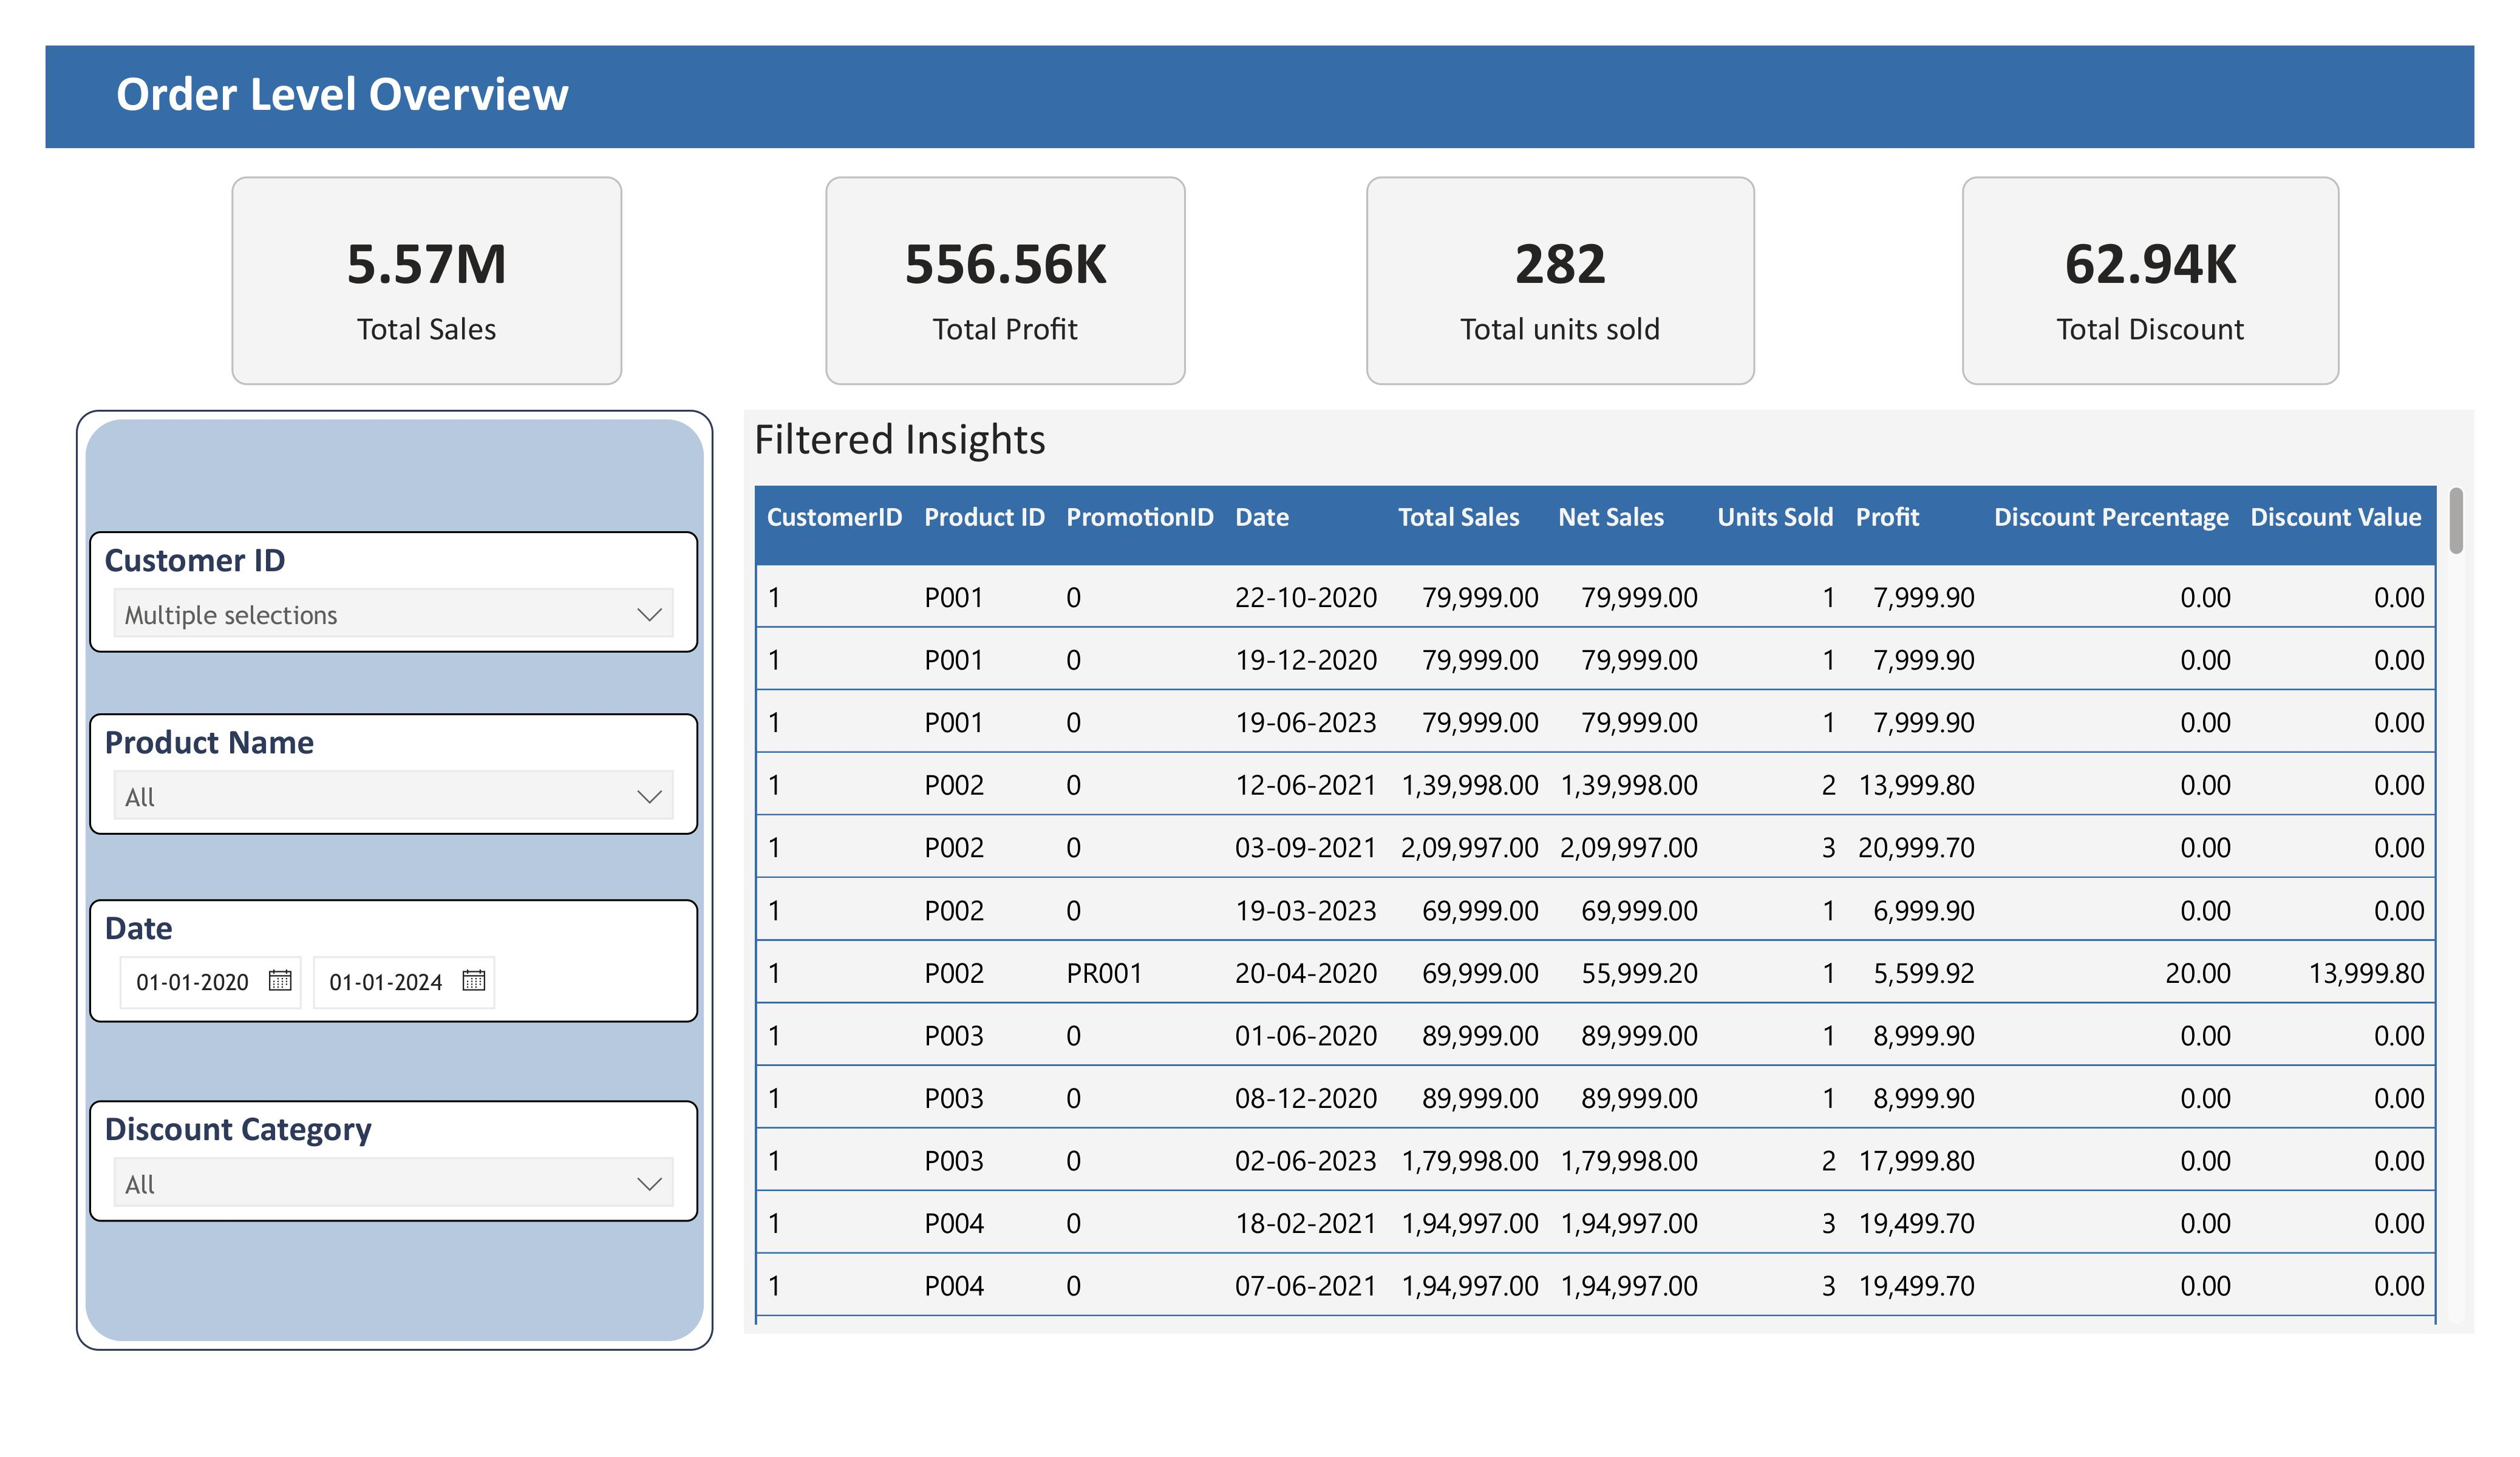

This screenshot's page, from the dashboard's own definition file:
{"tool":"powerbi","page":{"name":"Order Level Overview","canvas":[1280,720],"ordinal":2},"visuals":[{"type":"shape","box":[0,0,1280.3,53.8],"z":0},{"type":"shape","box":[31.8,74.6,1231.4,75.8],"z":1000},{"type":"textbox","box":[31.8,0,463.5,53.8],"z":2000},{"type":"shape","box":[16,192,336,496],"z":3000},{"type":"slicer","title":"Customer ID","fields":{"Values":["Sale Details.CustomerID"]},"box":[23.2,255.6,320.4,64.8],"z":4000},{"type":"slicer","title":"Product  Name","fields":{"Values":["Sale Details.Product ID"]},"box":[23.2,352.2,320.4,63.6],"z":5000},{"type":"slicer","title":"Date","fields":{"Values":["Sale Details.Date (dd/mm/yyyy)"]},"box":[23.2,450,320.4,64.8],"z":6000},{"type":"slicer","title":"Discount Category","fields":{"Values":["Dim Promotion.Promotion Name"]},"box":[23.2,556.4,320.4,63.6],"z":7000},{"type":"tableEx","title":"Filtered Insights","fields":{"Values":["Sale Details.CustomerID","Sale Details.Product ID","Sale Details.PromotionID","Sale Details.Date (dd/mm/yyyy)","Sale Details.Total  Sales","Sale Details.Net Sales","Sale Details.Units Sold","Sale Details.Profit","Sale Details.Discount Percentage","Sale Details.Discount Value"]},"box":[368.1,192,912.2,486.7],"z":8000},{"type":"card","fields":{"Values":["Sum(Sale Details.Net Sales)"]},"box":[97.5,68.8,206.2,110],"z":9000},{"type":"card","fields":{"Values":["Sum(Sale Details.Profit)"]},"box":[411.2,68.8,190,110],"z":10000},{"type":"card","fields":{"Values":["Sum(Sale Details.Units Sold)"]},"box":[696.2,68.8,205,110],"z":11000},{"type":"card","fields":{"Values":["Sum(Sale Details.Discount Value)"]},"box":[1010,68.8,198.8,110],"z":12000}]}

Visuals, with their boxes on the page's 1280x720 design canvas (x1, y1, x2, y2). These are canvas units, not pixel positions in the 2520x1457 screenshot, which may show the page scaled, cropped or inside an application window:
shape: x1=0 y1=0 x2=1280 y2=54
shape: x1=32 y1=75 x2=1263 y2=150
textbox: x1=32 y1=0 x2=495 y2=54
shape: x1=16 y1=192 x2=352 y2=688
"Customer ID" slicer: x1=23 y1=256 x2=344 y2=320
"Product  Name" slicer: x1=23 y1=352 x2=344 y2=416
"Date" slicer: x1=23 y1=450 x2=344 y2=515
"Discount Category" slicer: x1=23 y1=556 x2=344 y2=620
"Filtered Insights" tableEx: x1=368 y1=192 x2=1280 y2=679
card - Sum(Sale Details.Net Sales): x1=98 y1=69 x2=304 y2=179
card - Sum(Sale Details.Profit): x1=411 y1=69 x2=601 y2=179
card - Sum(Sale Details.Units Sold): x1=696 y1=69 x2=901 y2=179
card - Sum(Sale Details.Discount Value): x1=1010 y1=69 x2=1209 y2=179
